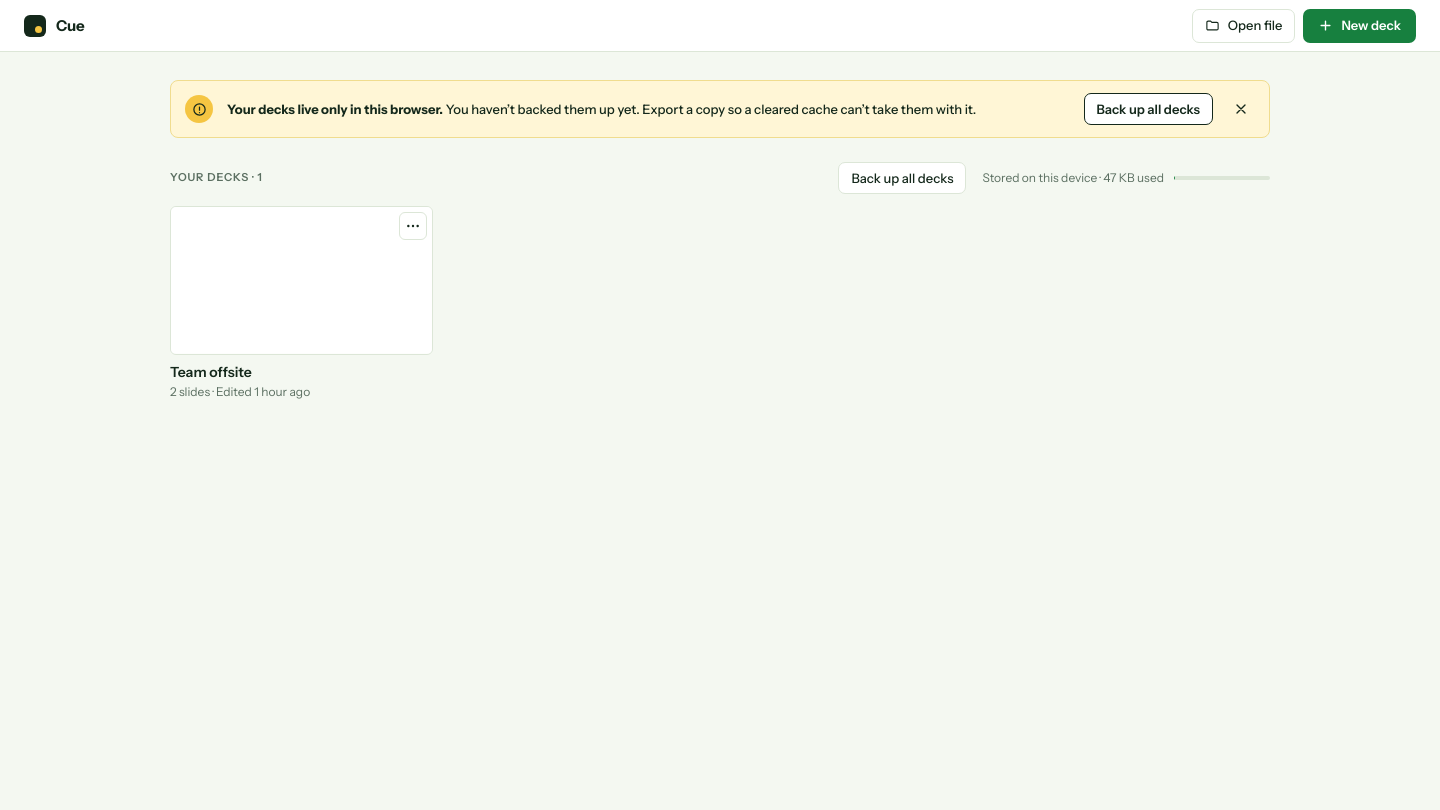
Test: Given the delete confirmation, When Delete deck is pressed, Then the deck is gone and the empty state returns
Click the button named "Options for Team offsite": (413, 226) [399, 212, 427, 240]
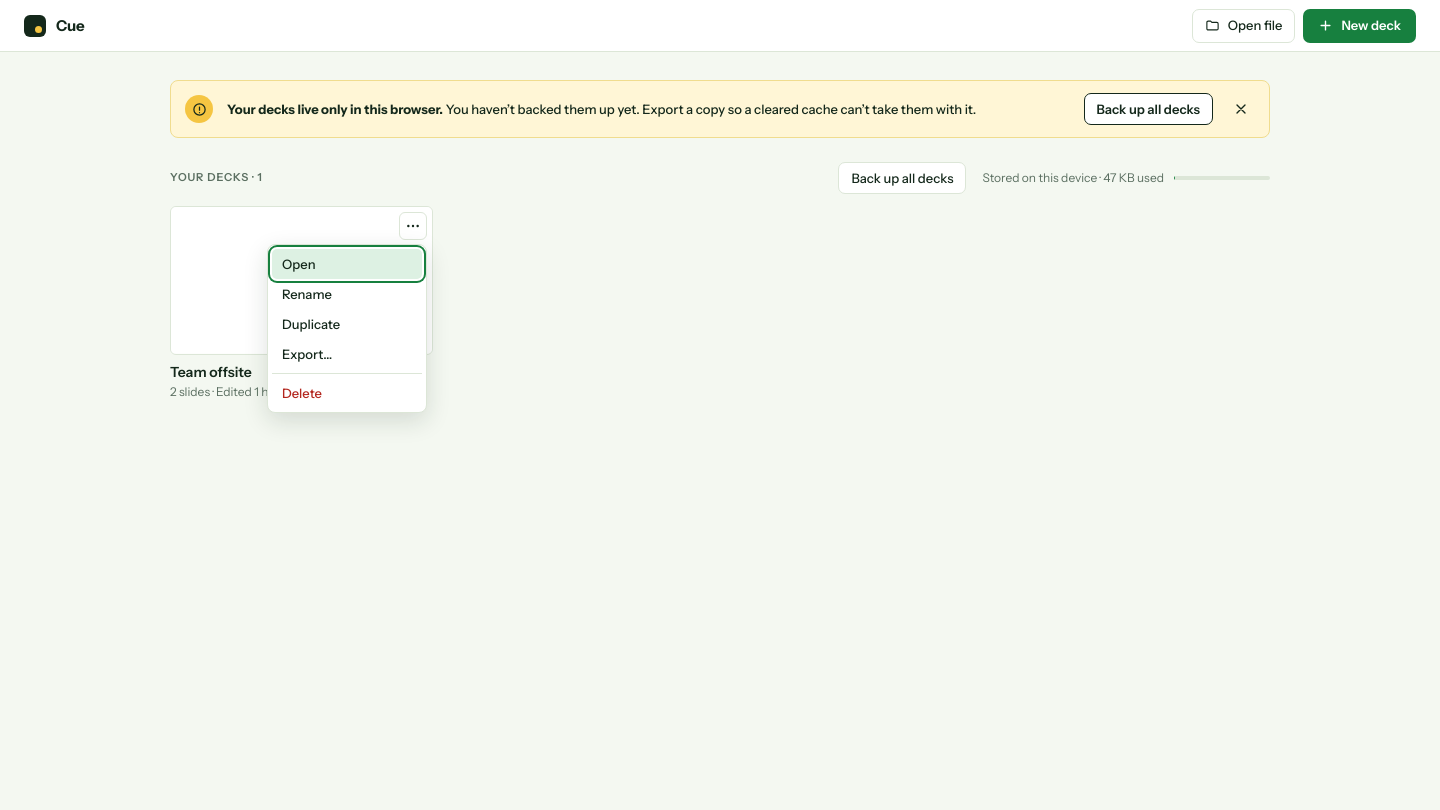
Click the menu item "Delete": (347, 393) [272, 378, 422, 408]
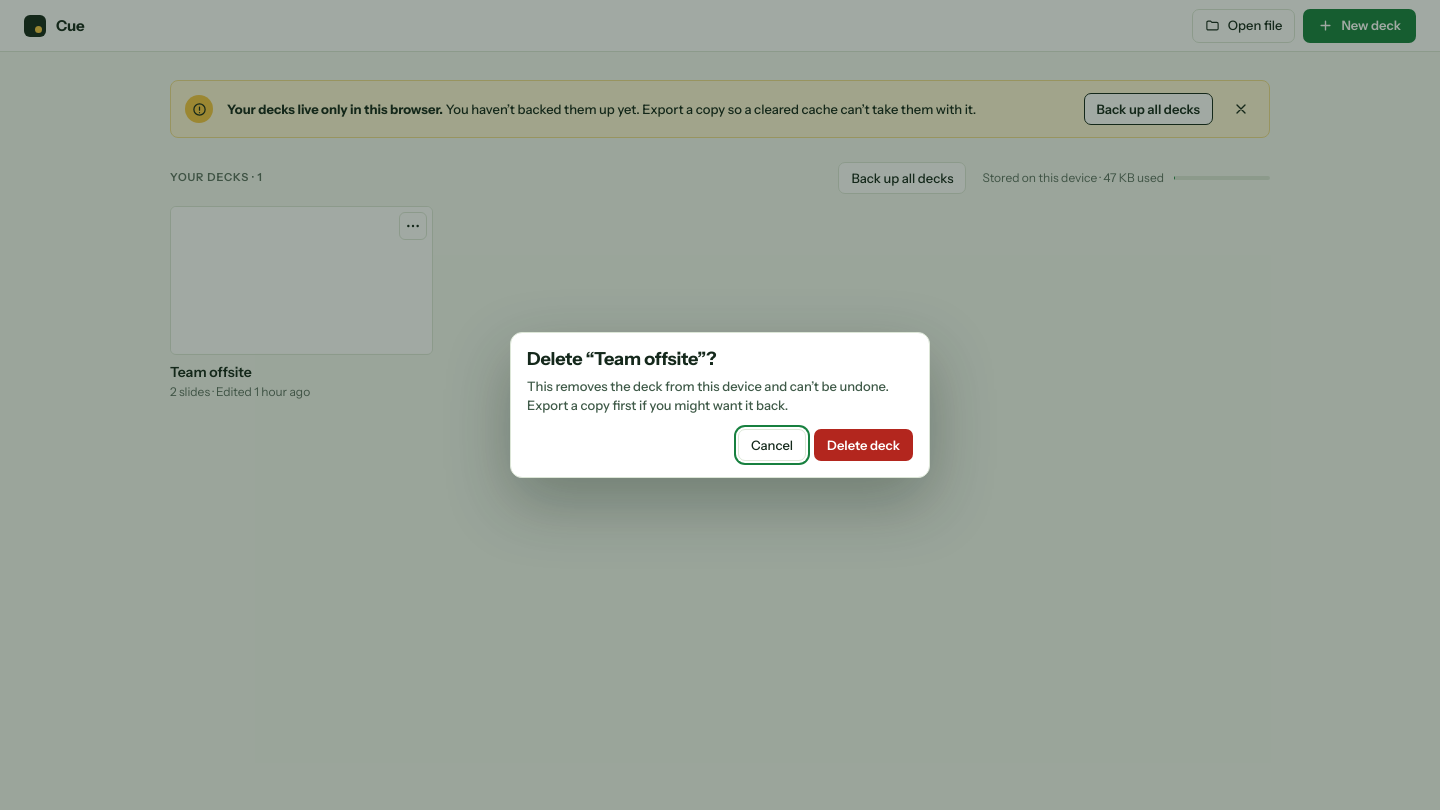
Click the button "Delete deck": (864, 445) [814, 429, 913, 461]
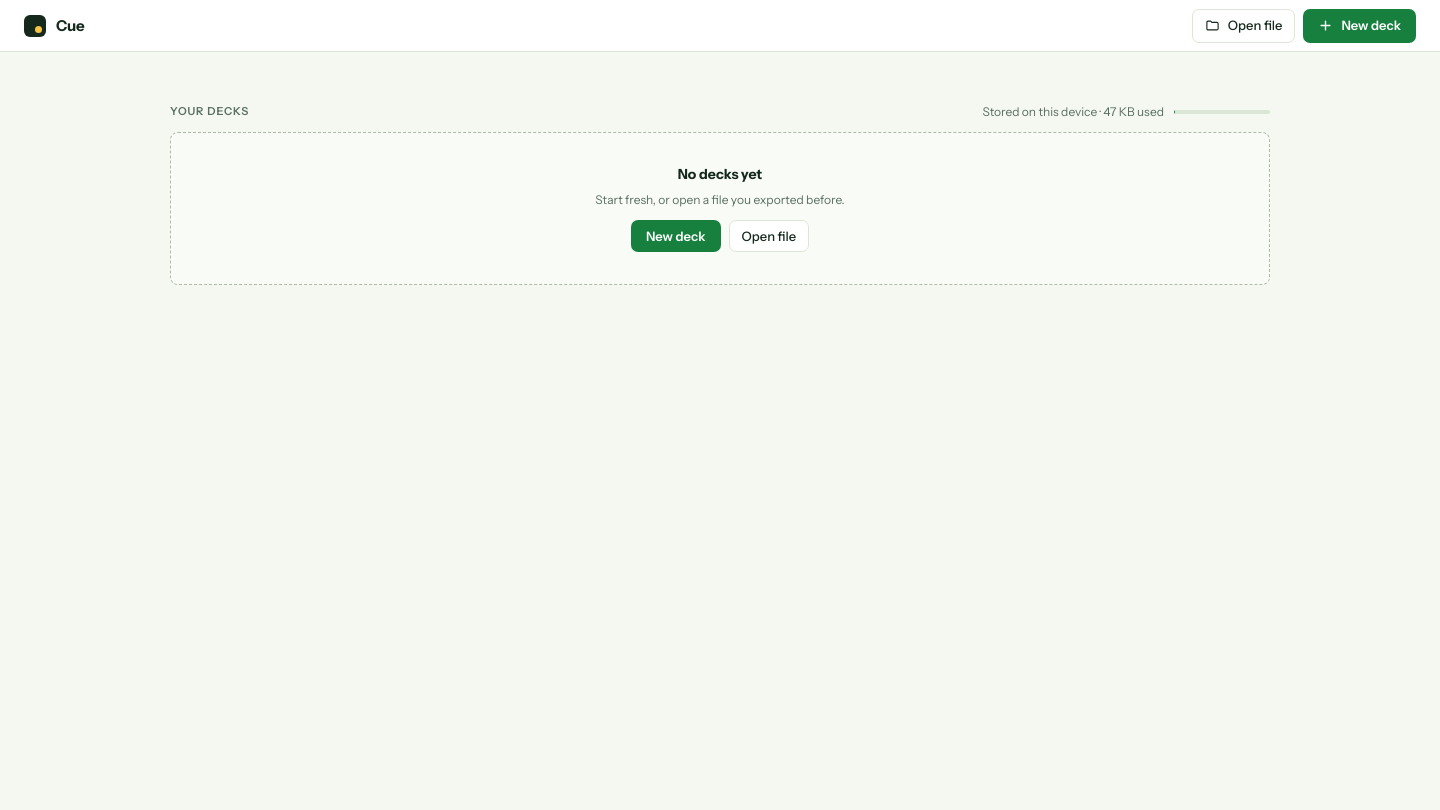
Now the heading "No decks yet" is shown, box [678, 165, 762, 184]
